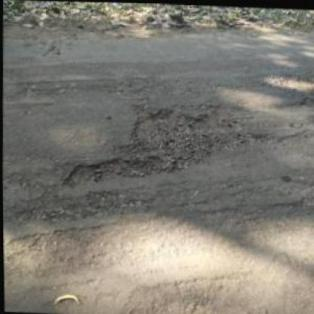Hueco: (60, 95, 276, 196)
